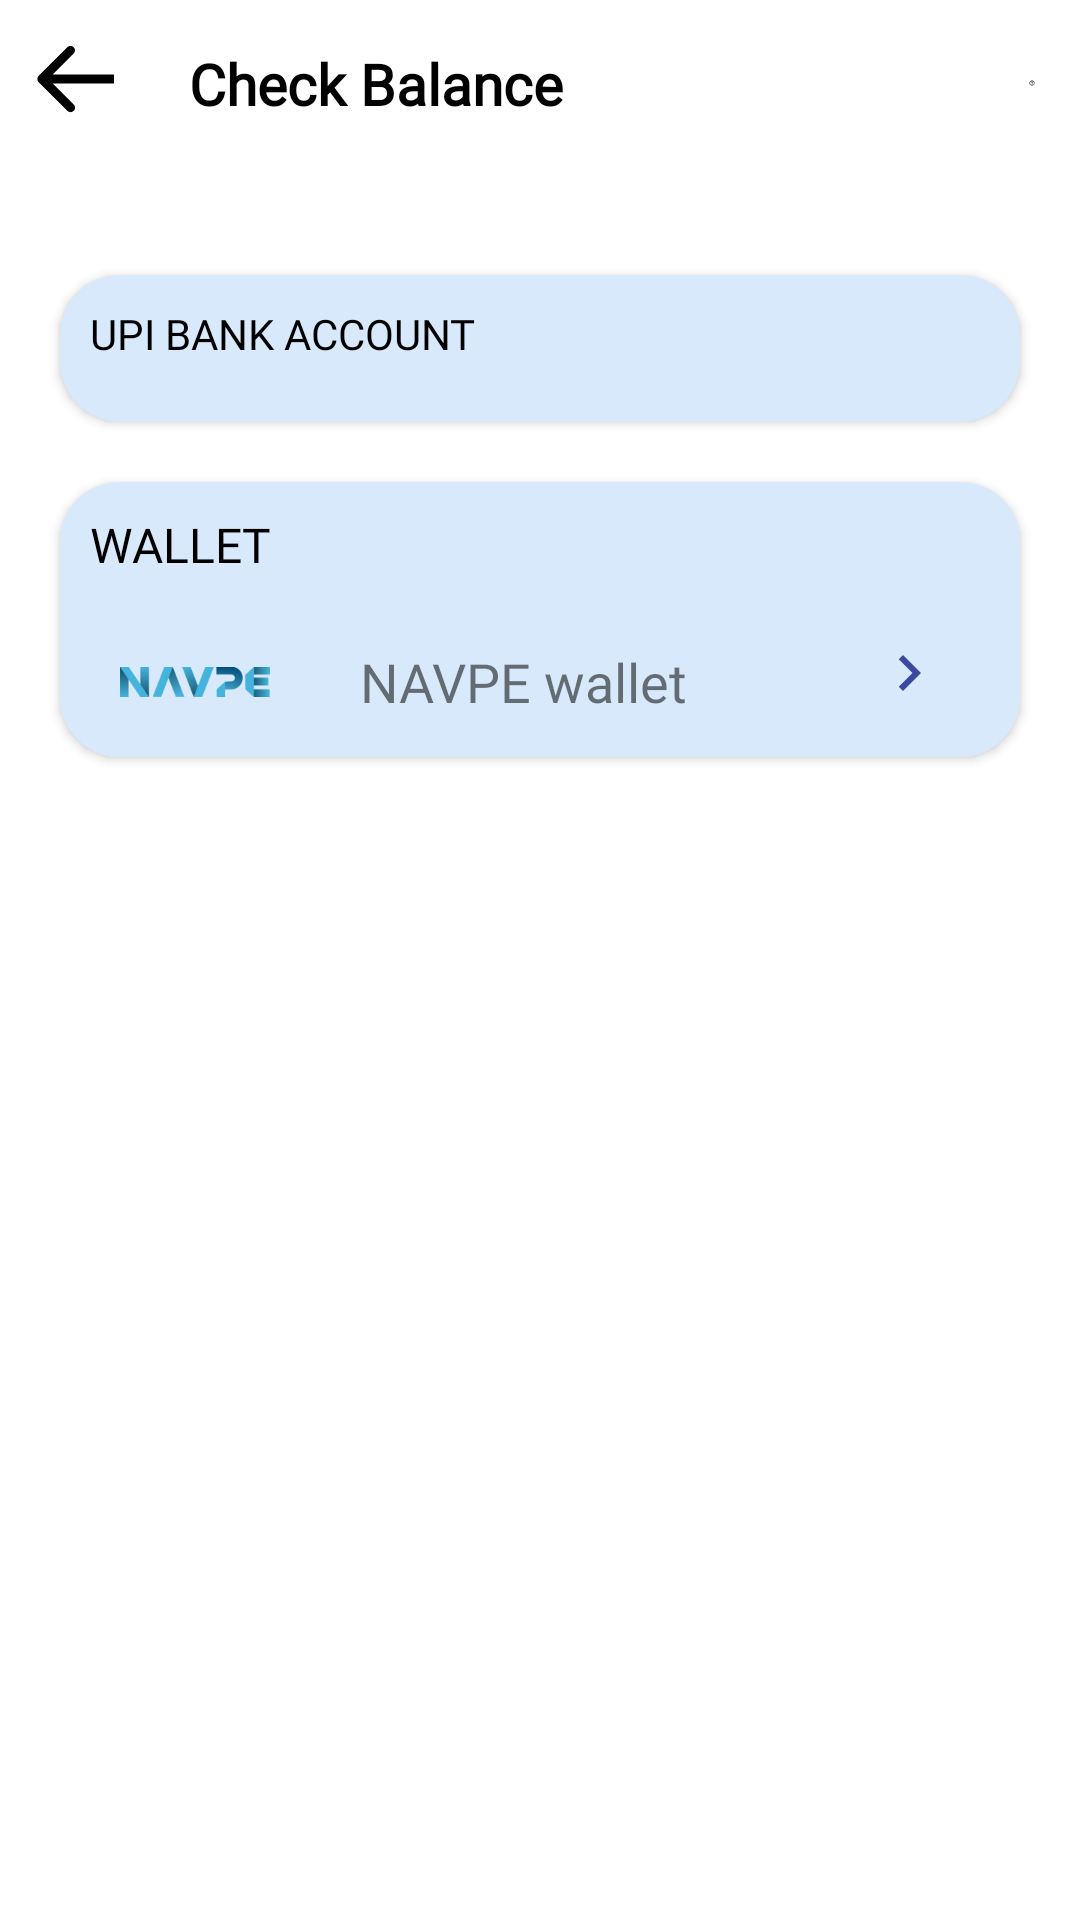

Icon click points for this 1080×1920 phone screenshot, format [x,y]:
Back: [75,79]
navigate next: [910,673]
